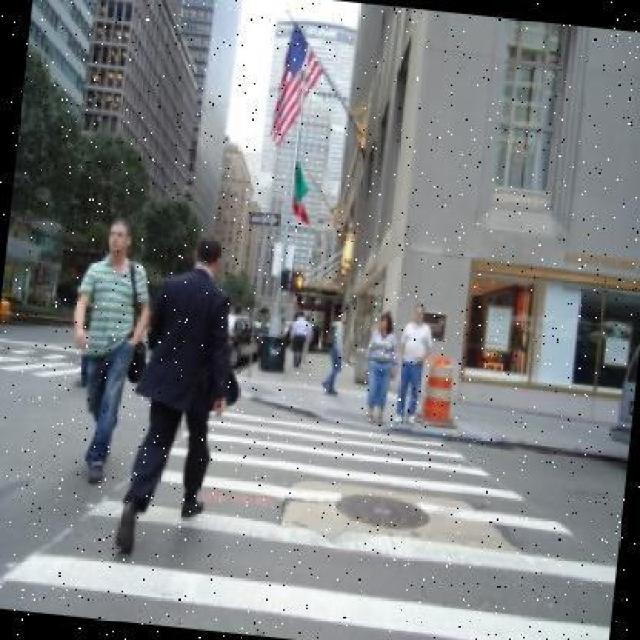Person: (114, 232, 248, 562), (56, 212, 156, 490), (392, 301, 436, 424), (358, 308, 398, 423), (320, 303, 349, 395), (284, 305, 311, 369)
